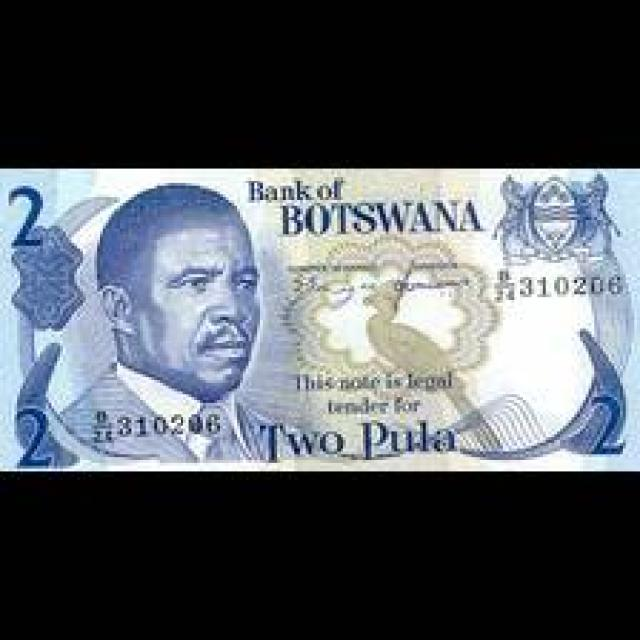banknote: (0, 170, 637, 471)
